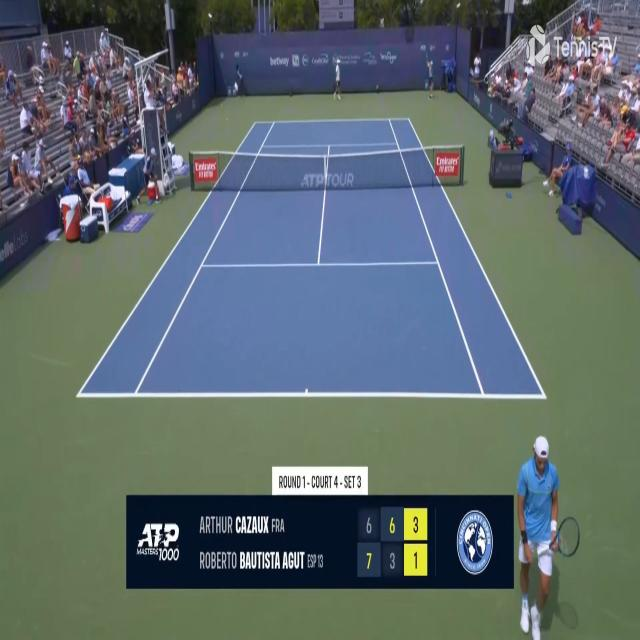tennis-player: (514, 430, 582, 640), (332, 57, 343, 102)
